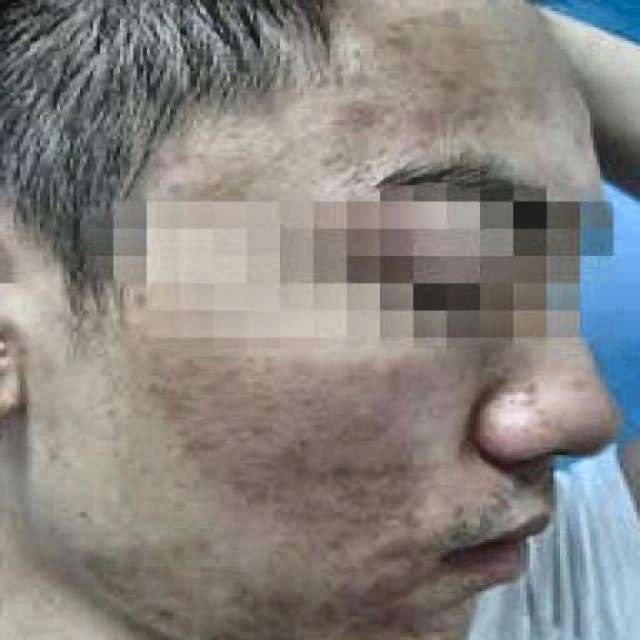comedone: (175, 534, 223, 568), (133, 600, 180, 630), (377, 535, 418, 567)
